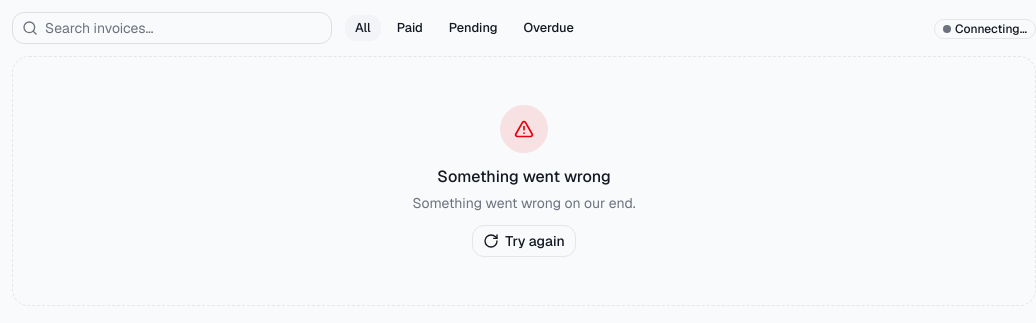
Test: InvoiceTable › shows the invoices after a failed load once the user clicks "Try again"
Click the button "Try again".
click(524, 241)  # box [472,225,576,257]
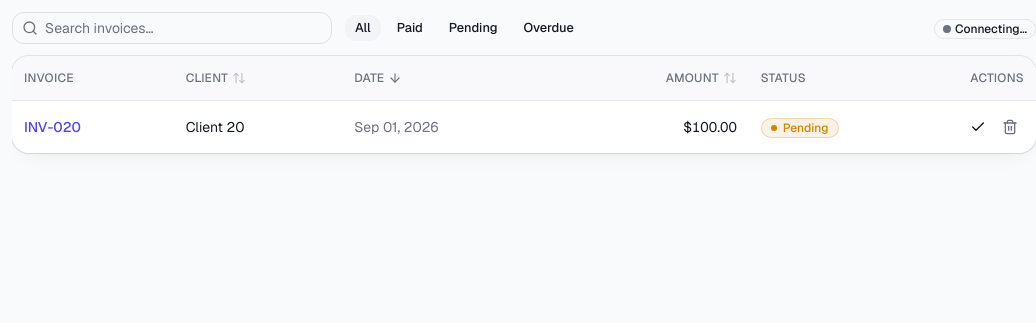
Now the row "INV-020 Client 20 Sep 01, 2026 $100.00 Pending" is shown, box [12,100,1035,152]
